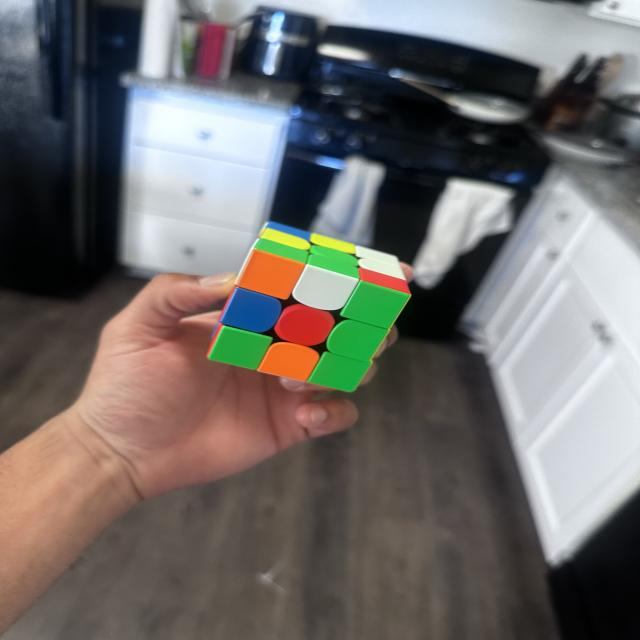sticker: (236, 248, 304, 302), (340, 278, 409, 329), (290, 262, 358, 312), (218, 286, 280, 334), (206, 324, 270, 370), (272, 302, 336, 347), (326, 318, 390, 362), (307, 350, 372, 392), (256, 340, 321, 381)
